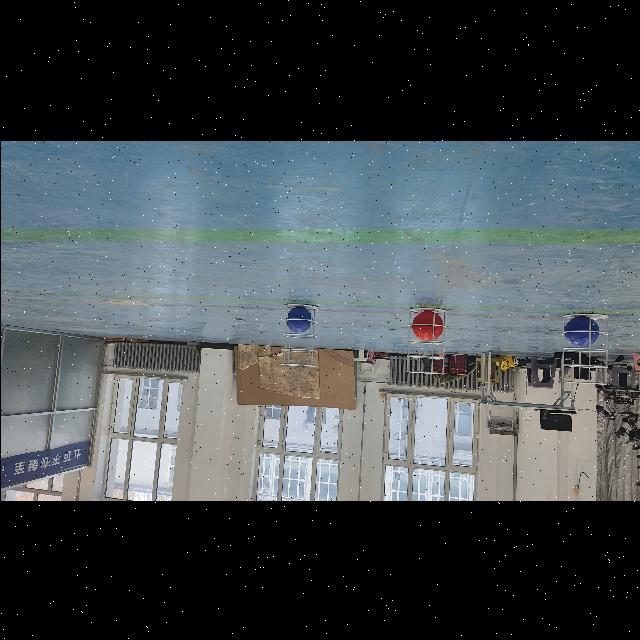B: (562, 315, 600, 345), (285, 305, 313, 331)
R: (411, 310, 445, 340)
S: (555, 311, 613, 385), (402, 305, 451, 375), (278, 300, 322, 368)
